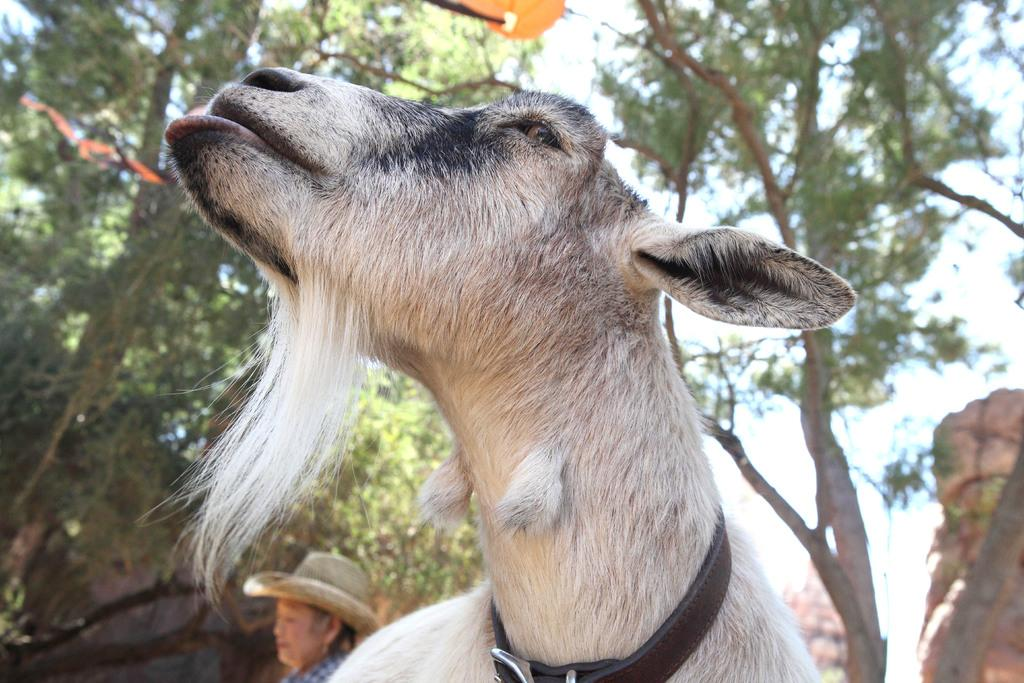Hat: (244, 553, 378, 634)
